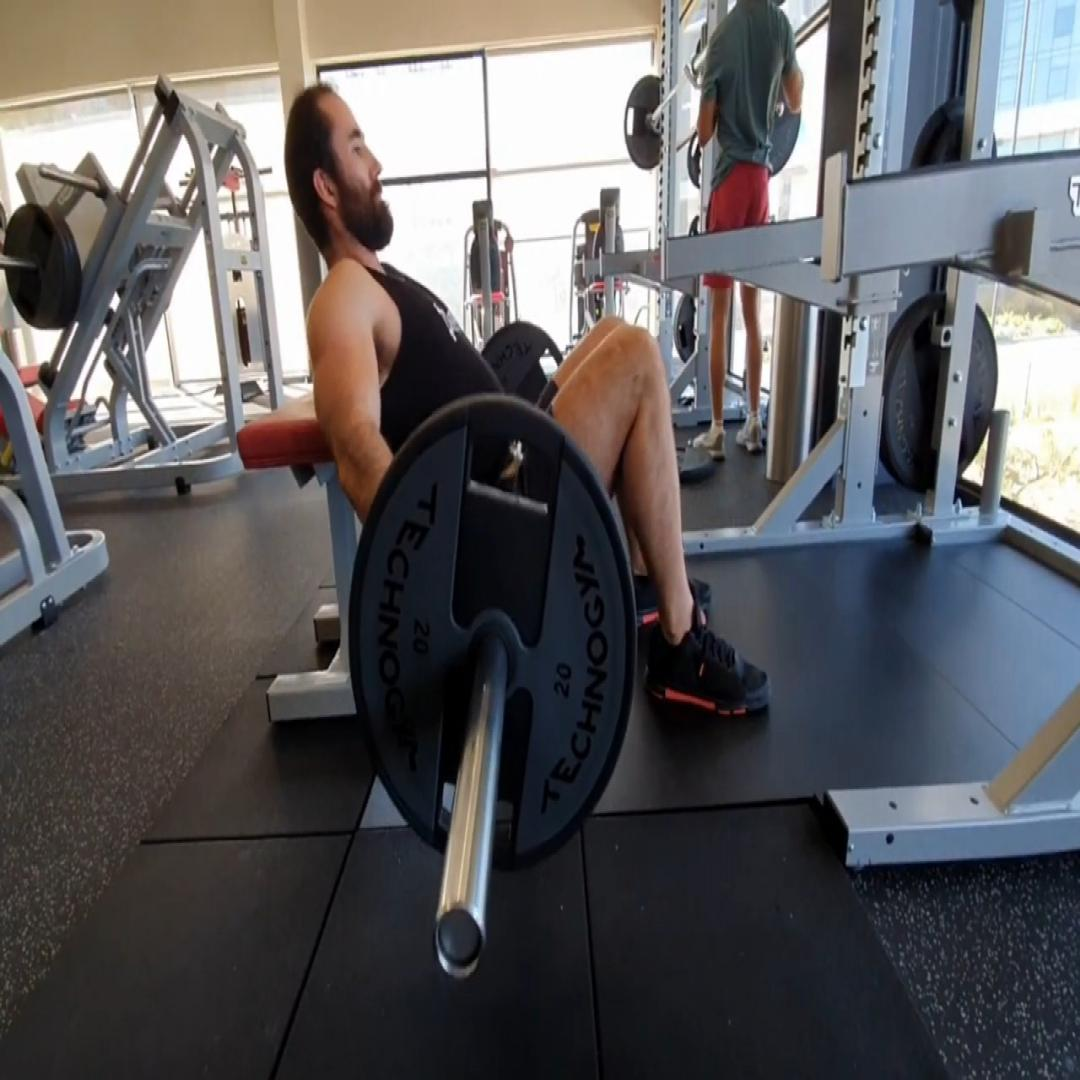Bar: (432, 894, 489, 982)
Barbell: (346, 391, 640, 879)
